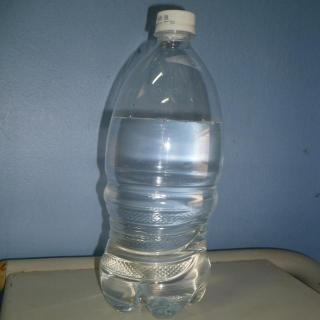Plastic-bottle: (95, 7, 227, 319)
